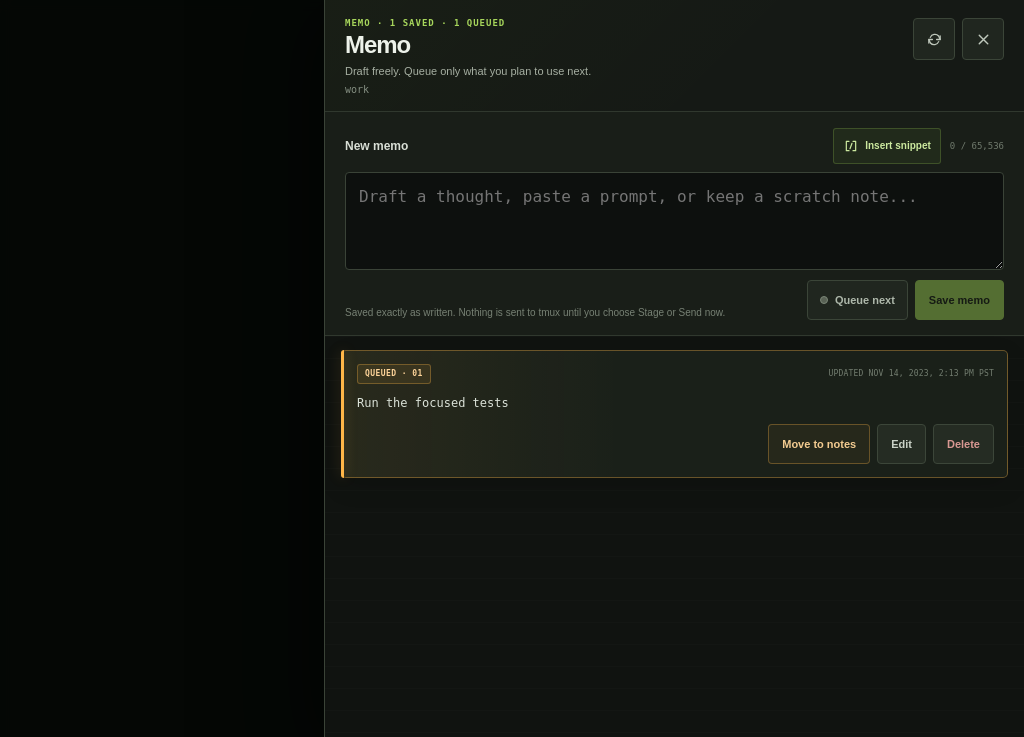
Scenario: MessageQueueDialog › saves notes by default and only queues a new memo after the explicit toggle
Expected: the text "Run the focused tests" is shown, [357,396,509,410]
Type "Summarize the changes" into the text box labelled "New memo" at (674, 221), box [345,172,1004,270]
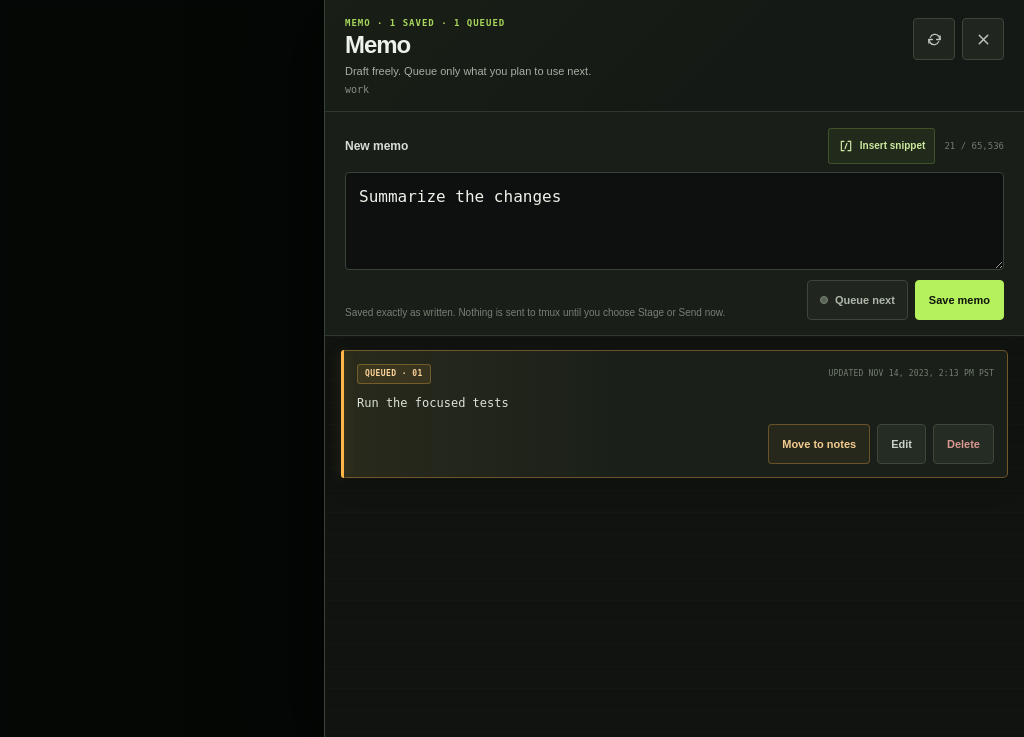
Click the button "Save memo" at (959, 300), box [915,280,1004,320]
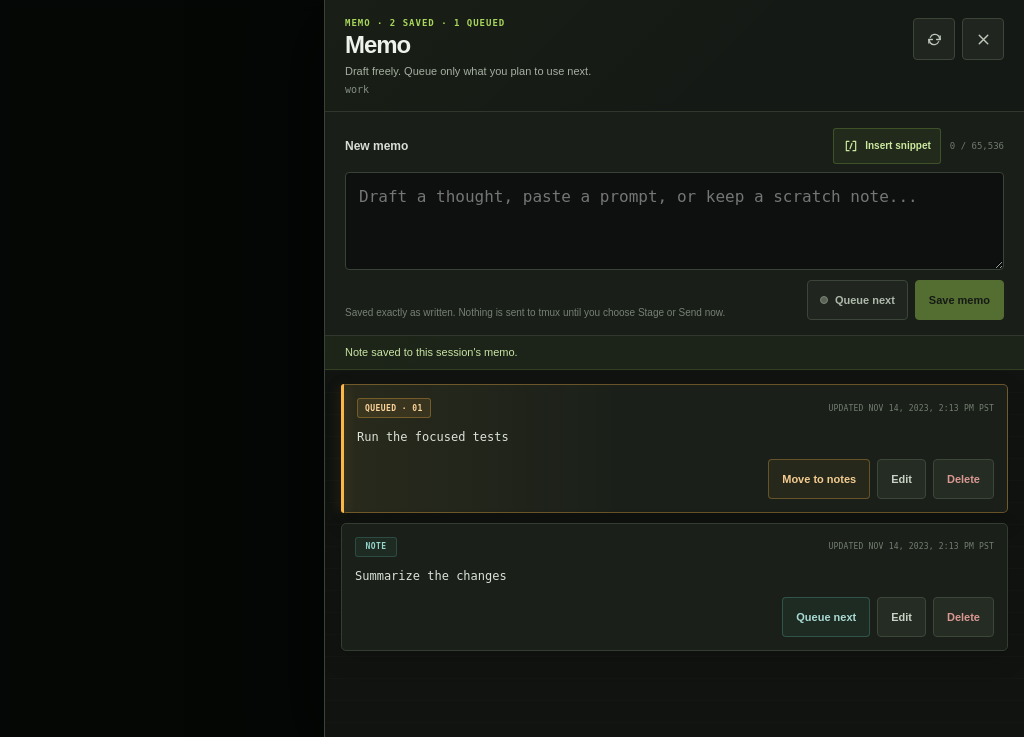
Now the text "Summarize the changes" is shown, box [355,569,507,583]
Now the text box labelled "New memo" is empty
Type "Continue after CI" into the text box labelled "New memo" at (674, 221), box [345,172,1004,270]
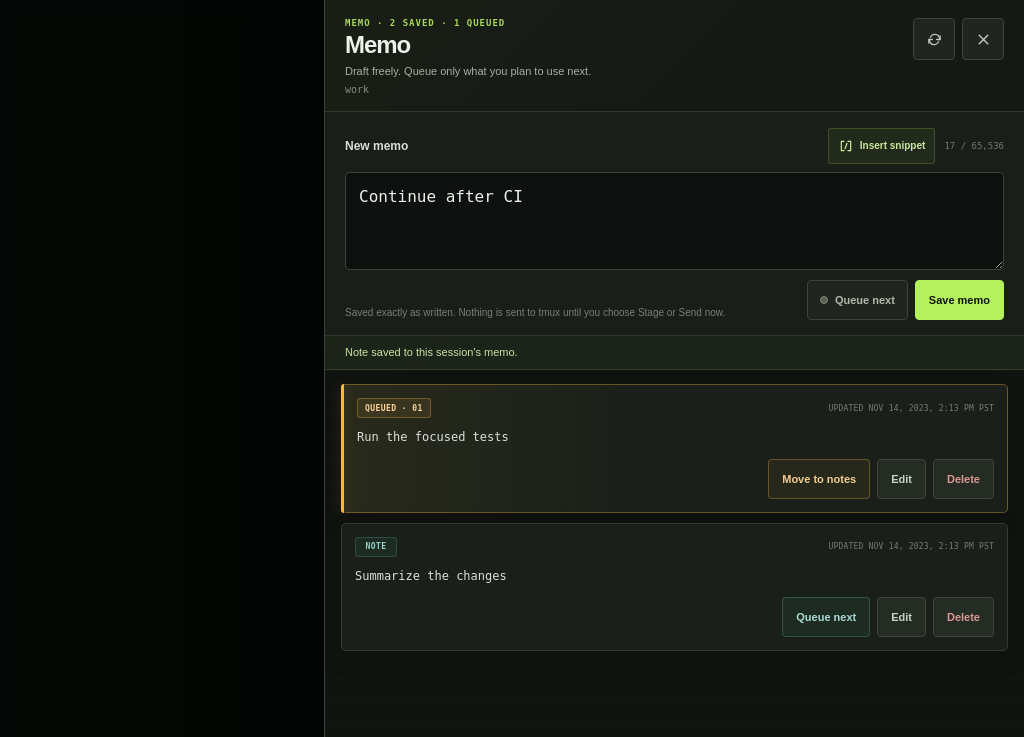
Click the button "Queue next" below "17" at (857, 300), box [807,280,908,320]
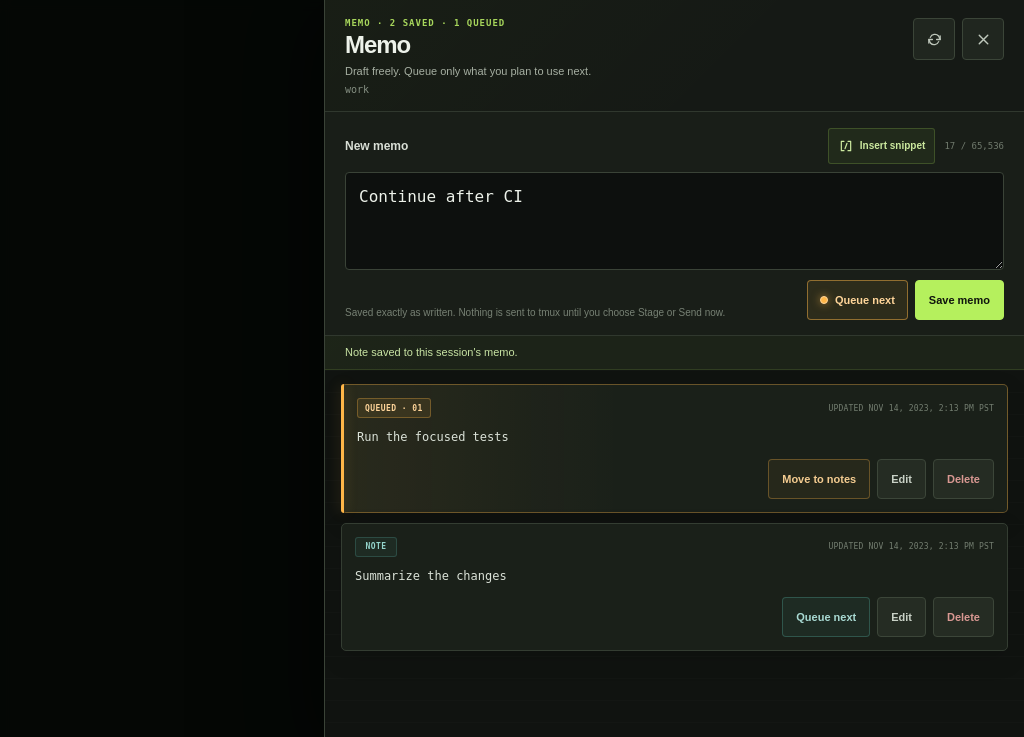
Now the button "Queue next" below "17" is pressed, box [807,280,908,320]
Click the button "Save memo" at (959, 300), box [915,280,1004,320]
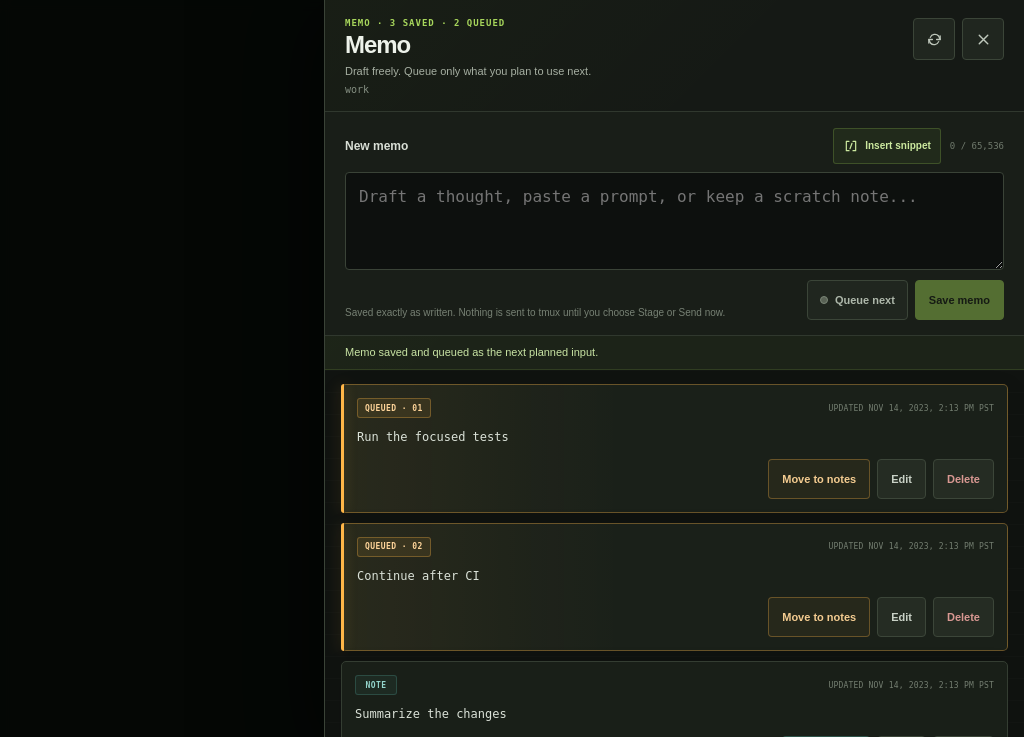
Now the text "Continue after CI" is shown, box [357,569,480,583]
